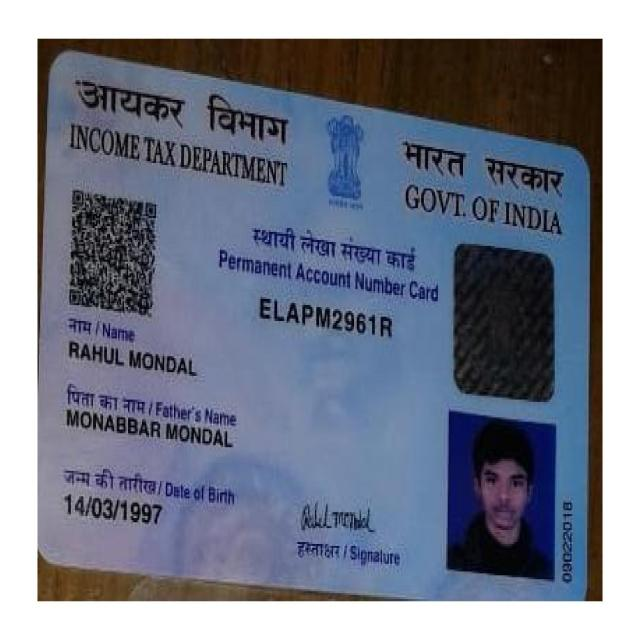pan_card: (40, 53, 586, 603)
